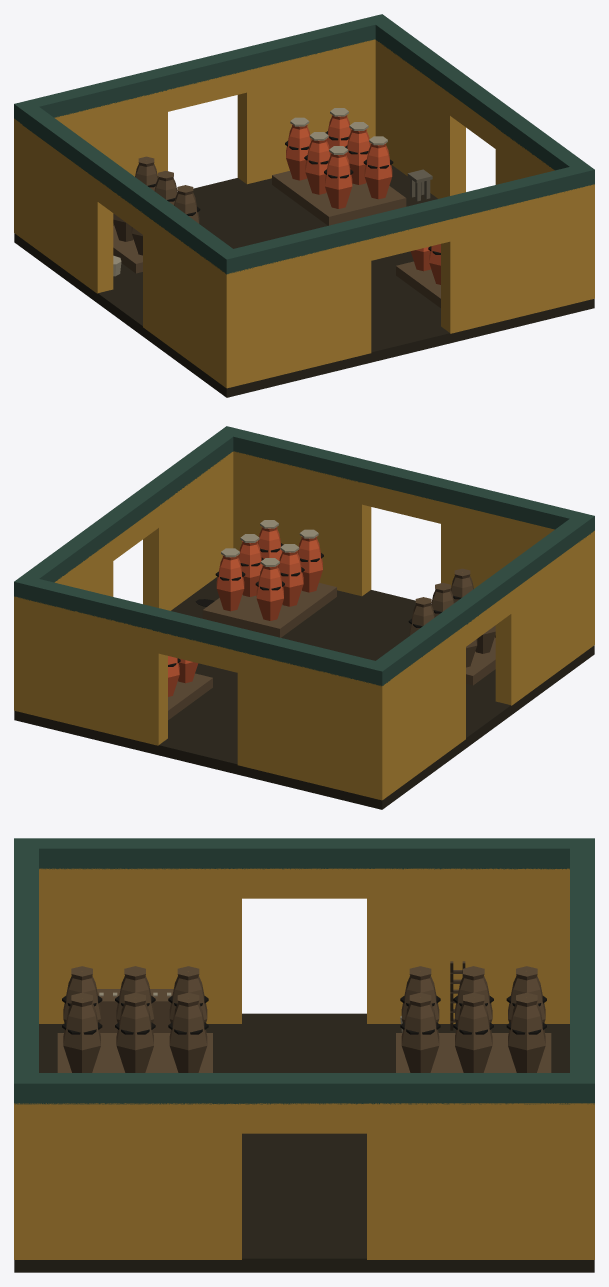
The model's file is BronzePithosMagazine.fbx.
The picture shows the model from 3 angles, top to bottom: view 1: azimuth 30°, elevation 25°; view 2: azimuth 150°, elevation 25°; view 3: azimuth 270°, elevation 25°; orthographic projection. The views are drawn at different scales.
Visible parts, largest first — view 1: BronzePithosMagazine; view 2: BronzePithosMagazine; view 3: BronzePithosMagazine.
Part boxes in pixels (bbox=[...]): BronzePithosMagazine: bbox=[14, 14, 594, 397]; BronzePithosMagazine: bbox=[14, 426, 594, 809]; BronzePithosMagazine: bbox=[14, 838, 594, 1272].
Bounding box in the file's own units: 1202 × 432 × 1202.
Materials: 9 (9 with a texture image).
